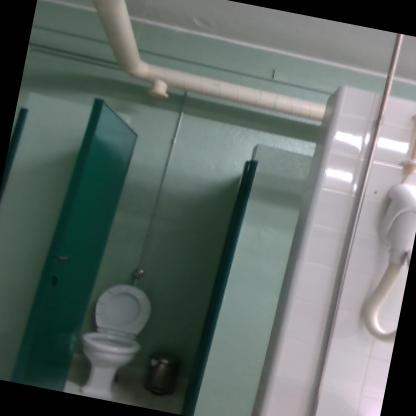open: (20, 88, 296, 415)
